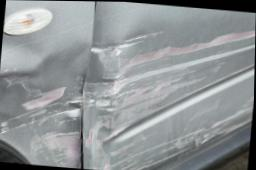Door: (83, 45, 255, 151)
Fender: (26, 70, 85, 166)
